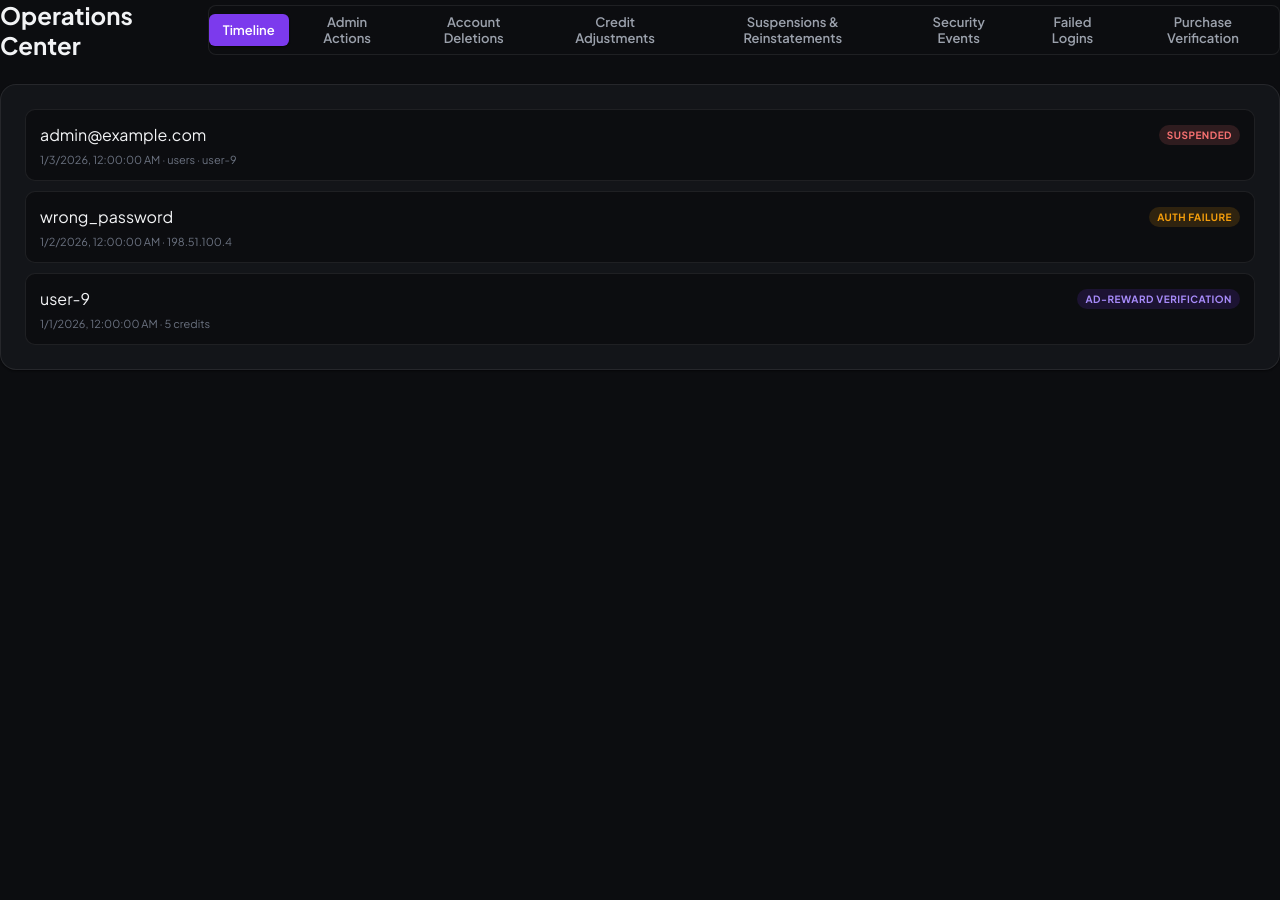
Test: OperationsCenterPage - Admin Actions tab › loads with no action filter and opens the drawer with before/after
Click the button "Admin Actions": (347, 30) x1=291 y1=6 x2=403 y2=54
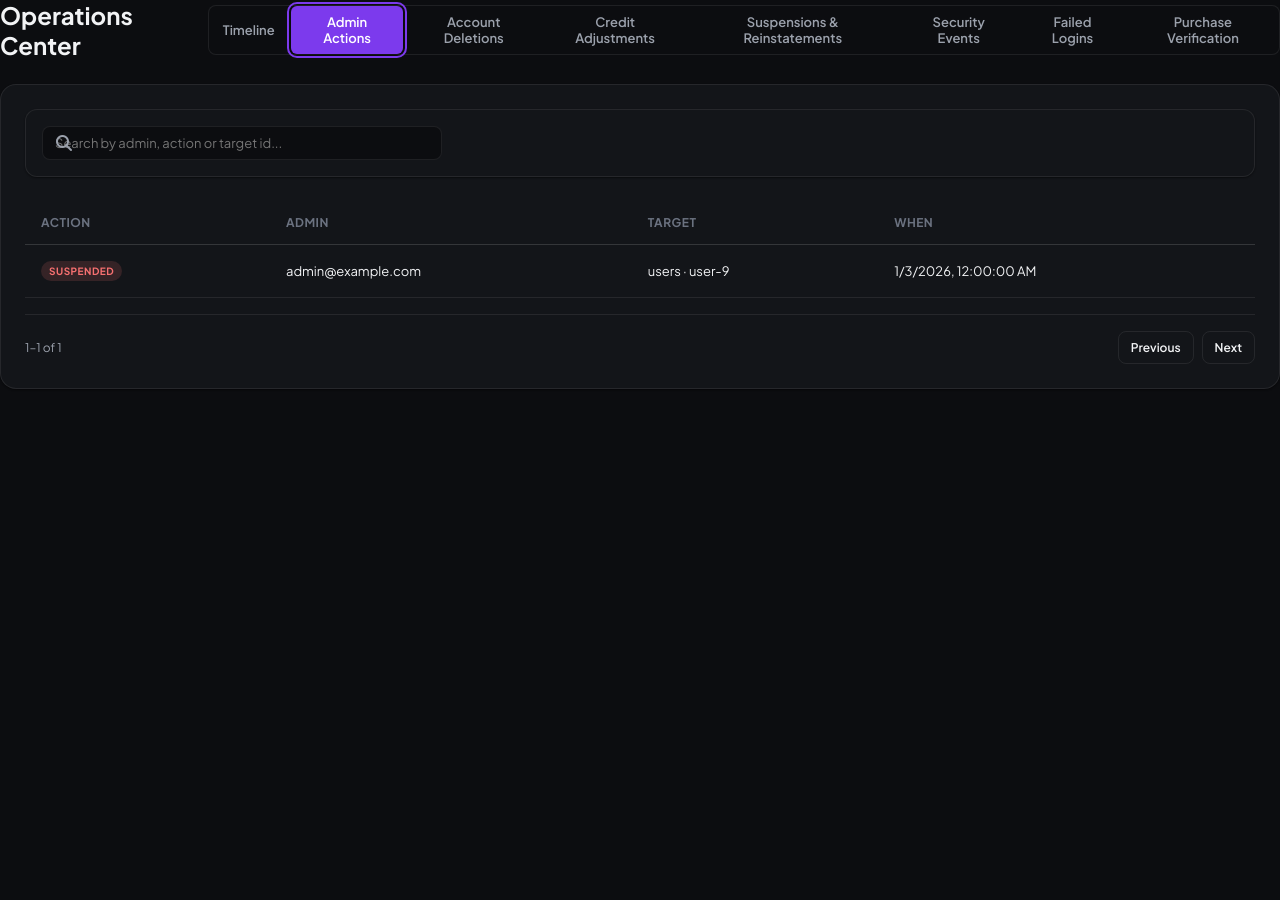
Click the text "admin@example.com": (451, 271) x1=270 y1=244 x2=632 y2=298
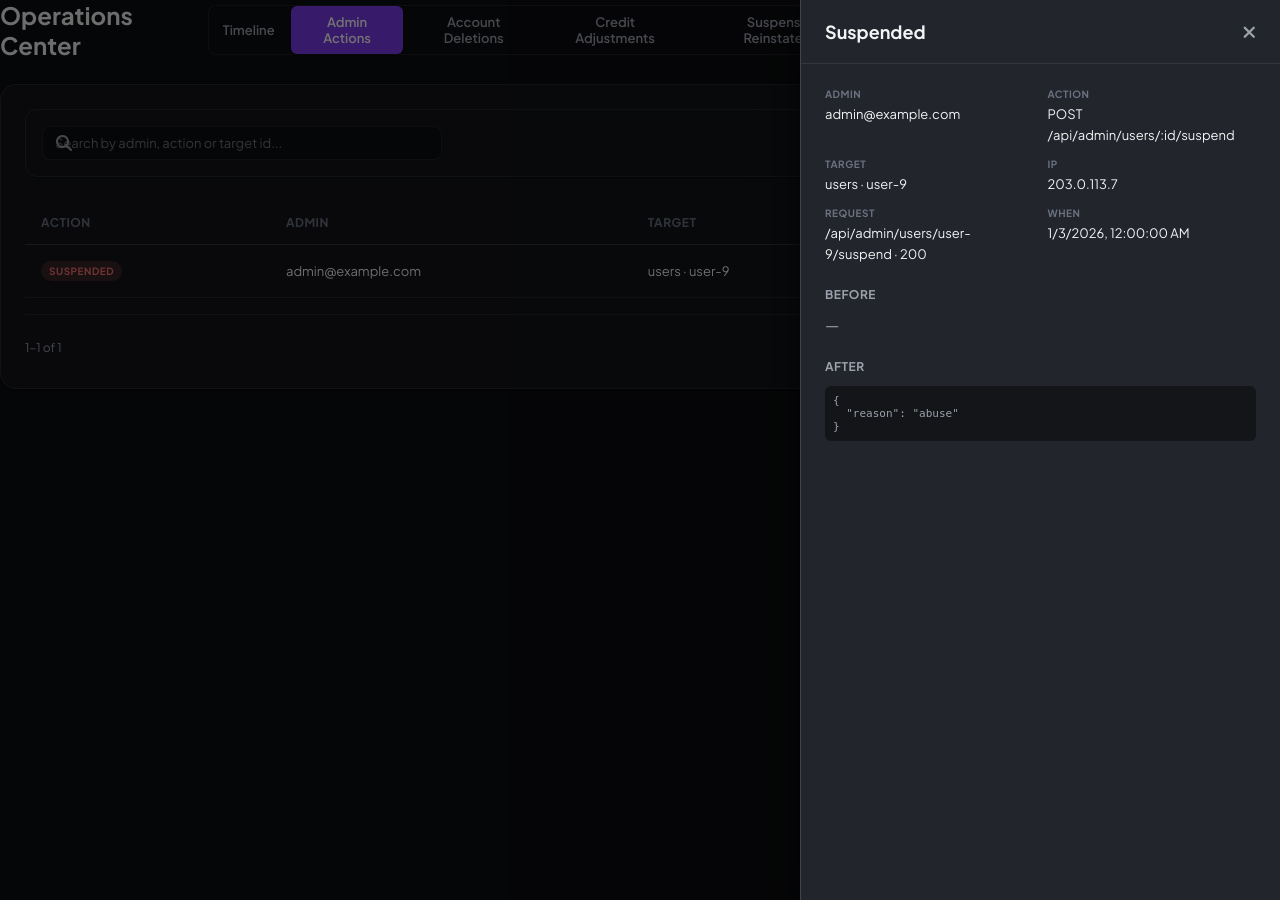
Expected: the text "abuse" is shown, x1=833 y1=394 x2=959 y2=433
